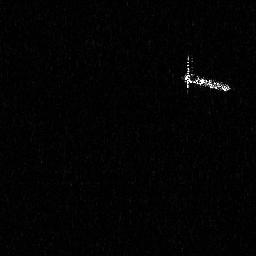ship: (181, 53, 232, 95)
